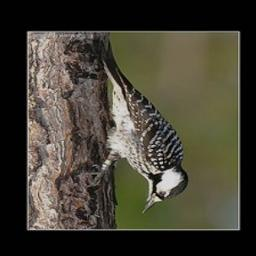Woodpecker: (79, 38, 189, 213)
